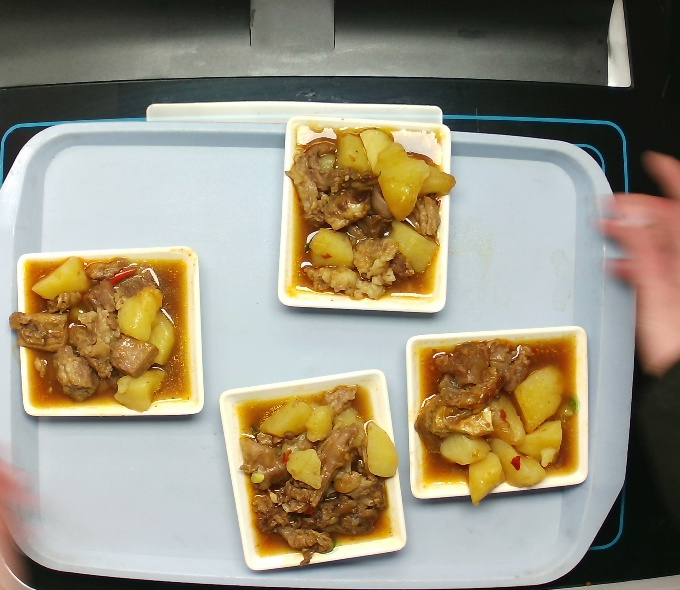wcq-TuDouNiuNan: (284, 120, 459, 304), (7, 252, 201, 415), (234, 379, 402, 563), (408, 333, 588, 501)
